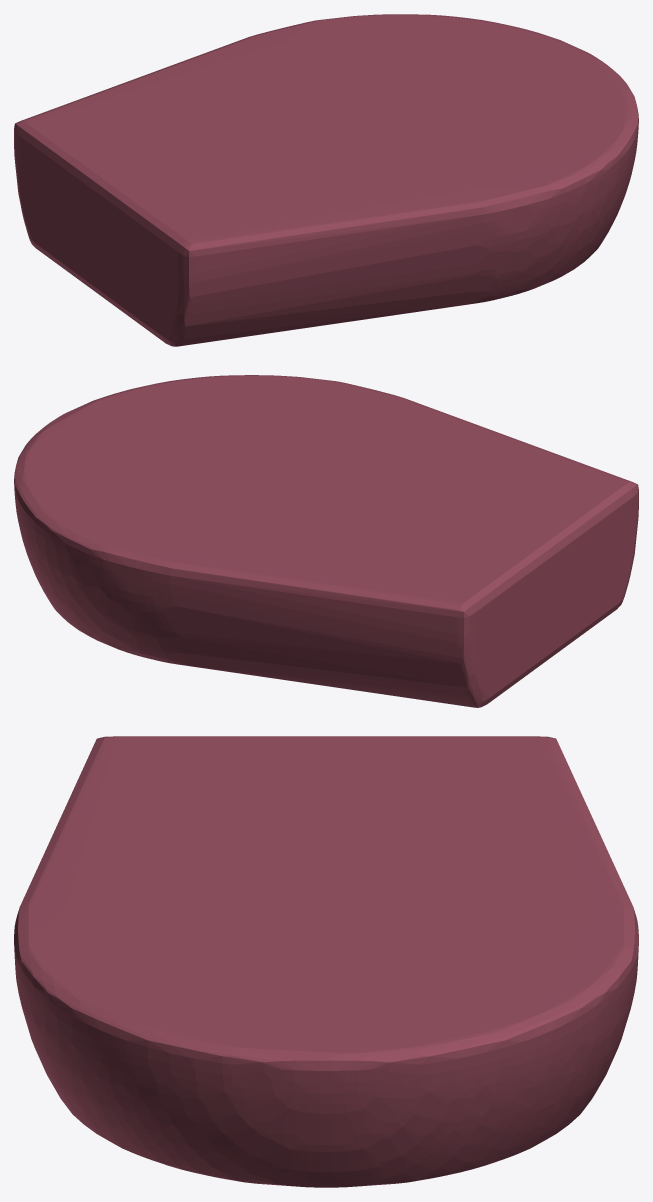
Rendered from left_elbow_link_part_13.obj.
3 renders of one model, top to bottom at view 1: azimuth 30°, elevation 25°; view 2: azimuth 150°, elevation 25°; view 3: azimuth 270°, elevation 25°, orthographic. The views are drawn at different scales.
Size of the model in its own units: 0.0905 by 0.0196 by 0.0731.
